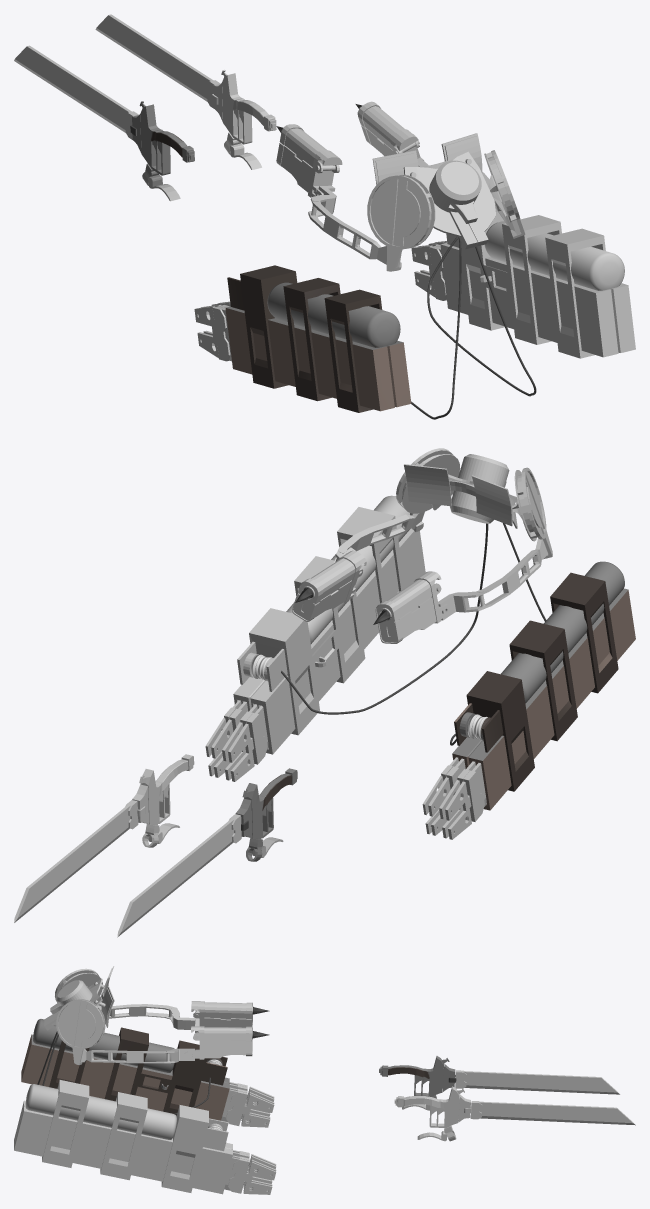
The model's file is ODM geartest.fbx.
The picture shows the model from 3 angles, top to bottom: view 1: azimuth 30°, elevation 25°; view 2: azimuth 150°, elevation 25°; view 3: azimuth 270°, elevation 25°; orthographic projection. The views are drawn at different scales.
Parts seen in each view (by area): view 1: gas bag 1, gas bag 1.001, propeller, grapple shooter, reeler 1, blade 2, blade 1, handle 1, handle 2, grapple shooter2, back rest, pack of blades 2 (+4 smaller); view 2: gas bag 1, gas bag 1.001, grapple shooter, grapple shooter2, pack of blades 2, pack of blades 1, back rest, blade 2, blade 1, handle 2, handle 1, propeller (+3 smaller); view 3: gas bag 1.001, gas bag 1, grapple shooter2, blade 1, blade 2, grapple shooter, reeler 2, pack of blades 2, pack of blades 1, handle 2, handle 1, propeller (+2 smaller).
Part boxes in pixels (x1,y1,x2,y2): gas bag 1: (225,265,411,412); gas bag 1.001: (440,207,635,358); propeller: (403,151,495,249); grapple shooter: (276,124,401,267); reeler 1: (367,174,435,271); blade 2: (14,45,138,139); blade 1: (95,14,220,108); handle 1: (130,101,194,201); handle 2: (212,69,276,169); grapple shooter2: (357,101,520,234); back rest: (372,133,482,184); pack of blades 2: (194,301,231,361); gas bag 1: (452,561,635,810); gas bag 1.001: (233,495,425,754); grapple shooter: (375,538,548,643); grapple shooter2: (292,512,424,621); pack of blades 2: (422,757,486,839); pack of blades 1: (205,700,268,781); back rest: (404,464,512,526); blade 2: (117,814,241,937); blade 1: (14,800,138,922); handle 2: (132,754,194,847); handle 1: (235,768,297,861); propeller: (448,454,517,523); gas bag 1.001: (14,1080,232,1194); gas bag 1: (21,1019,229,1120); grapple shooter2: (81,1026,252,1063); blade 1: (467,1101,635,1125); blade 2: (455,1070,619,1094); grapple shooter: (109,1001,253,1032); reeler 2: (56,999,105,1065); pack of blades 2: (221,1082,274,1127); pack of blades 1: (224,1150,276,1194); handle 2: (394,1086,471,1141); handle 1: (379,1056,456,1110); propeller: (44,978,105,1030).
Bounding box in the file's own units: 306 × 298 × 966.
